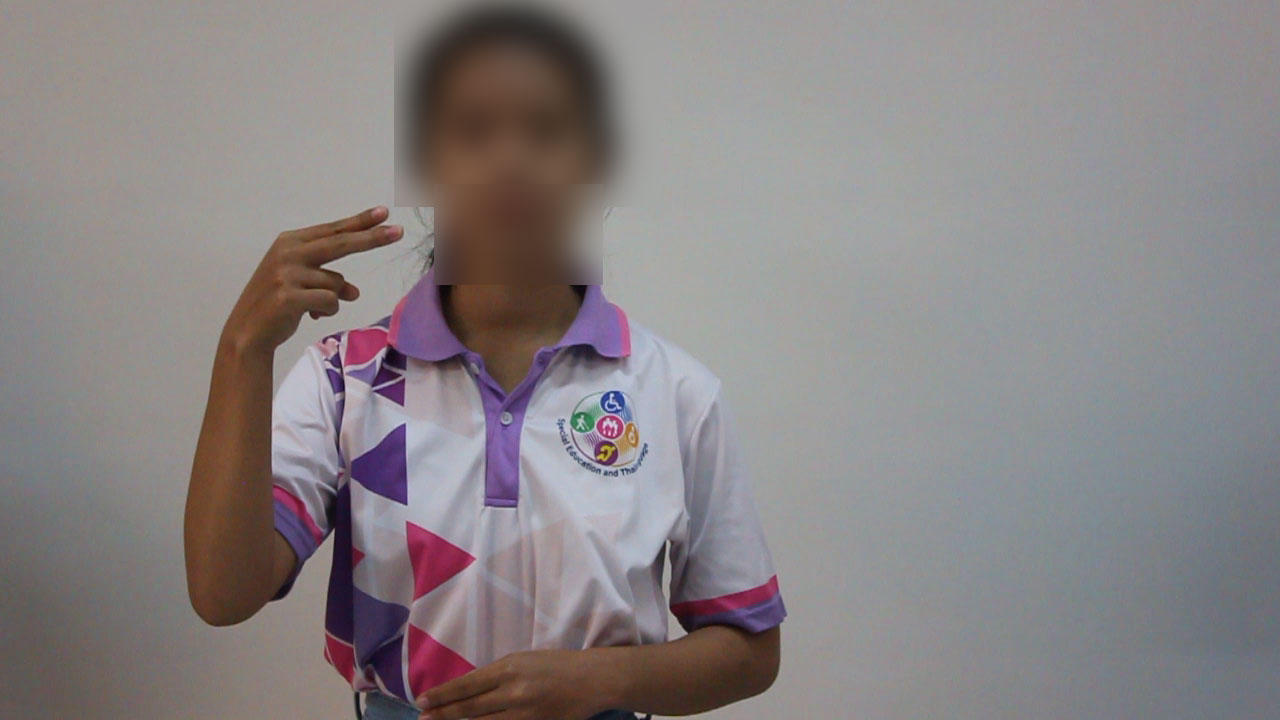hor: (228, 199, 422, 359)
